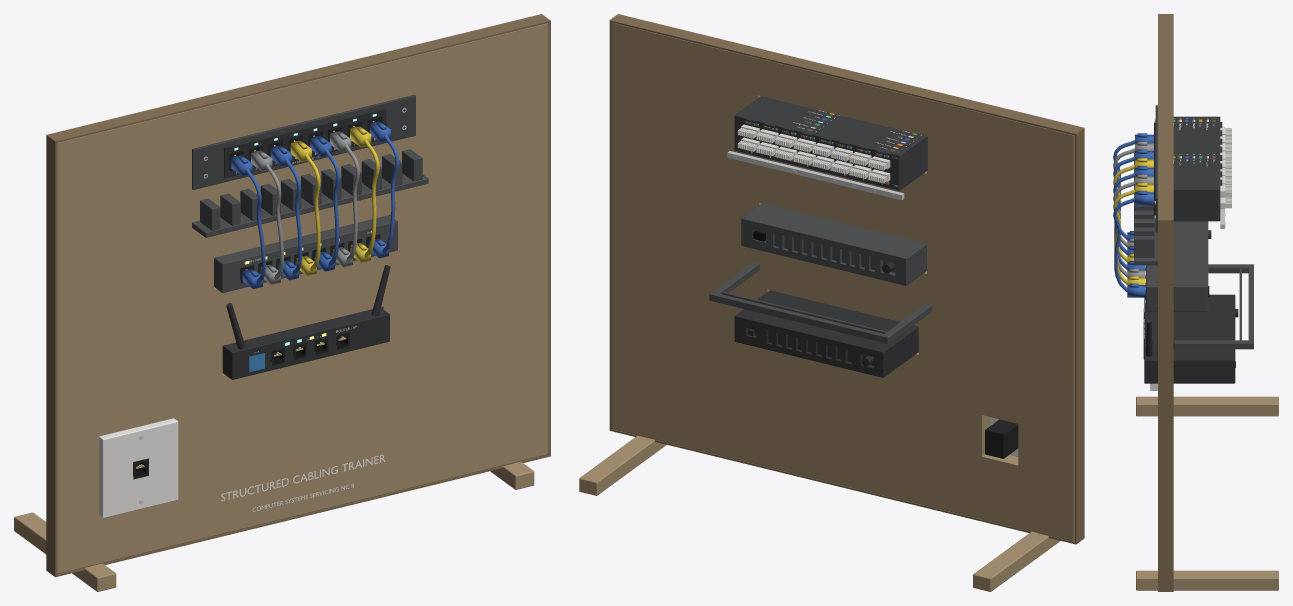
File: StructuredCablingTrainer 1.fbx
3 views of the same model, side by side, from view 1: azimuth 30°, elevation 25°; view 2: azimuth 150°, elevation 25°; view 3: azimuth 270°, elevation 25° (orthographic). The views are drawn at different scales.
Parts seen in each view (by area): view 1: TrainingBoard_Panel, TrainingBoard_EdgeBand, CableManager, WallOutlet, Router, NetworkSwitch, Panel_Front, Panel_Bezel, TrainingBoard_FootL, TrainingBoard_Title, TrainingBoard_FootR; view 2: TrainingBoard_Panel, TrainingBoard_EdgeBand, NetworkSwitch, Router, Housing_Main, CableRetainer, TrainingBoard_FootR, TrainingBoard_FootL, PanelGroundBar, OutletKeystoneBody; view 3: TrainingBoard_EdgeBand, Router, Housing_Main, NetworkSwitch, TrainingBoard_FootR, TrainingBoard_FootL, CableRetainer, CableManager, PatchCord_08_Cable, Panel_Front, PatchCord_07_Cable, PatchCord_08_Plug_A (+3 smaller).
Boxes of the visible parts, x1,y1,x2,y2 form: TrainingBoard_Panel: (57, 23, 548, 574); TrainingBoard_EdgeBand: (46, 14, 550, 577); CableManager: (192, 149, 428, 237); WallOutlet: (98, 418, 178, 518); Router: (222, 308, 389, 379); NetworkSwitch: (214, 215, 397, 292); Panel_Front: (192, 94, 415, 189); Panel_Bezel: (224, 108, 386, 177); TrainingBoard_FootL: (14, 512, 116, 591); TrainingBoard_Title: (221, 454, 385, 511); TrainingBoard_FootR: (490, 461, 534, 489); TrainingBoard_Panel: (611, 22, 1074, 541); TrainingBoard_EdgeBand: (609, 14, 1084, 544); NetworkSwitch: (741, 203, 926, 285); Router: (734, 290, 918, 377); Housing_Main: (734, 96, 927, 190); CableRetainer: (709, 261, 932, 343); TrainingBoard_FootR: (579, 436, 666, 495); TrainingBoard_FootL: (973, 531, 1060, 591); PanelGroundBar: (727, 151, 904, 200); OutletKeystoneBody: (985, 419, 1018, 458); TrainingBoard_EdgeBand: (1158, 14, 1173, 591); Router: (1143, 294, 1235, 383); Housing_Main: (1173, 116, 1220, 221); NetworkSwitch: (1145, 221, 1208, 311); TrainingBoard_FootR: (1136, 570, 1278, 590); TrainingBoard_FootL: (1136, 396, 1278, 416); CableRetainer: (1173, 264, 1253, 349); CableManager: (1134, 152, 1157, 265); PatchCord_08_Cable: (1113, 197, 1134, 291); Panel_Front: (1155, 105, 1157, 232); PatchCord_07_Cable: (1113, 189, 1134, 284); PatchCord_08_Plug_A: (1135, 191, 1153, 205).
Bounding box in the file's own units: 56.4 × 48.8 × 19.15.
